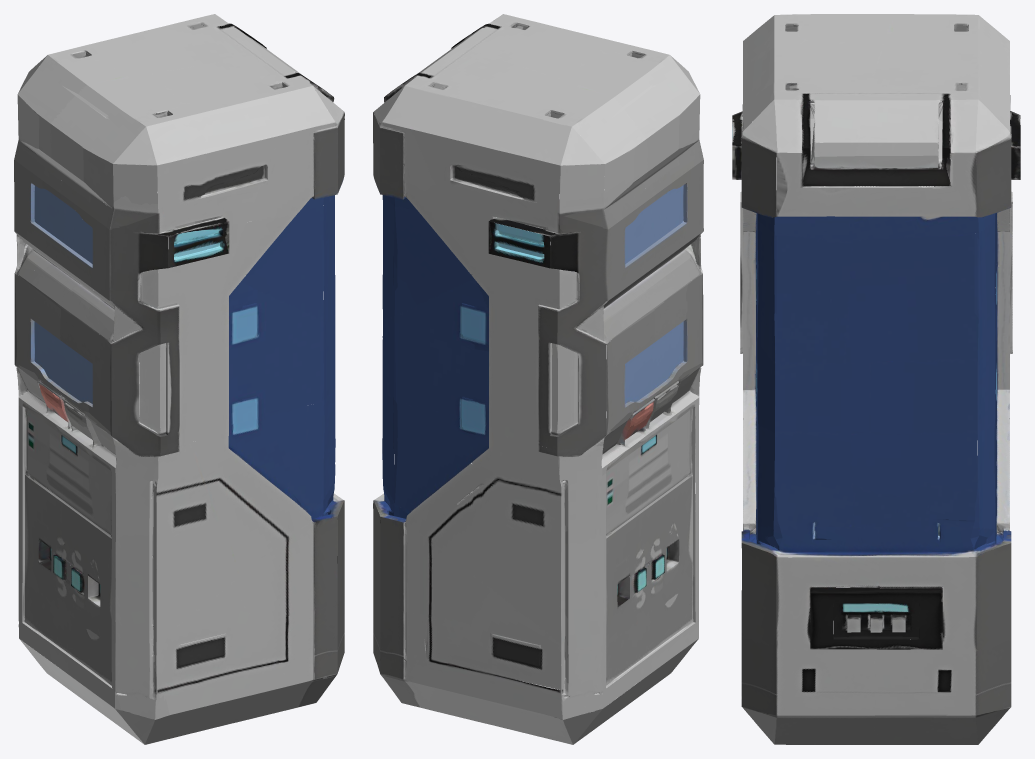
The model's file is Sleeping Pod -Quarters1.glb.
3 renders of one model, left to right at view 1: azimuth 30°, elevation 25°; view 2: azimuth 150°, elevation 25°; view 3: azimuth 270°, elevation 25°, orthographic. The views are drawn at different scales.
Parts seen in each view (by area): view 1: tripo_node_22400799-676e-45d5-9568-f7db3ab01a46; view 2: tripo_node_22400799-676e-45d5-9568-f7db3ab01a46; view 3: tripo_node_22400799-676e-45d5-9568-f7db3ab01a46.
Boxes of the visible parts, left/top/right/bottom form: tripo_node_22400799-676e-45d5-9568-f7db3ab01a46: left=14, top=14, right=344, bottom=744; tripo_node_22400799-676e-45d5-9568-f7db3ab01a46: left=373, top=14, right=703, bottom=744; tripo_node_22400799-676e-45d5-9568-f7db3ab01a46: left=732, top=14, right=1020, bottom=744.
Size of the model in its own units: 0.4152 by 0.9999 by 0.4041.
1 material, 1 textured.
